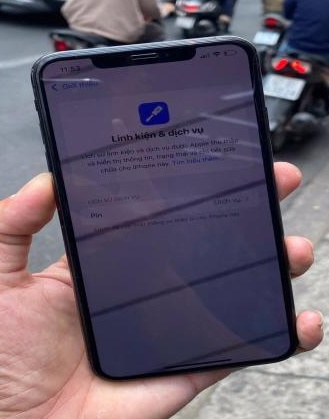physical_damage: (249, 57, 257, 97)
scratch: (56, 204, 62, 210)
